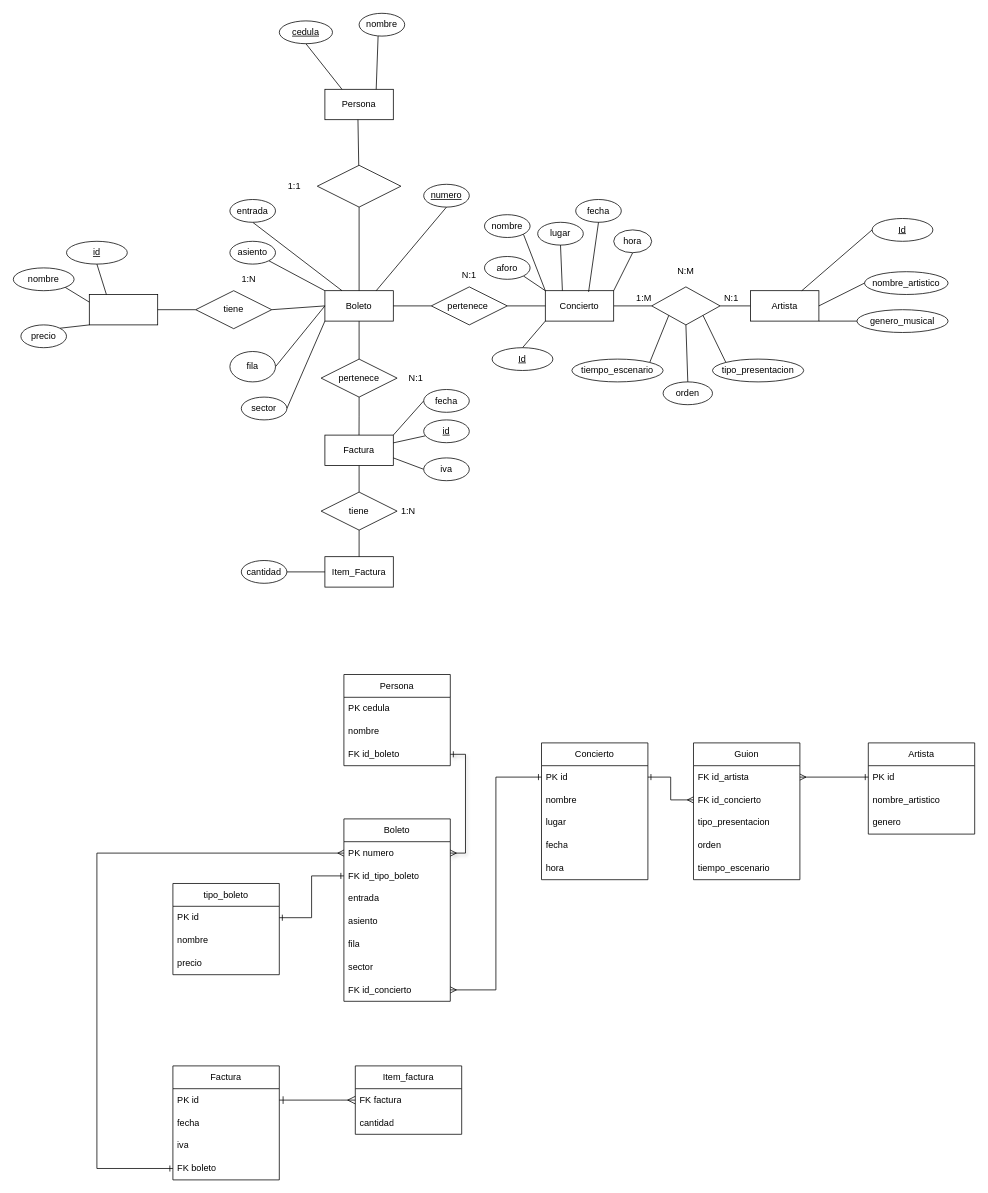
Some shapes in this 988 by 1193 pixel diagram are drawn without their labels. The shapes that lost their labels are listed below. From the top down, each one's centre as x and y in pixels, then its label:
At [359,186]: "compra".
At [123,309]: "tipo boleto".
At [685,305]: "Presenta".
